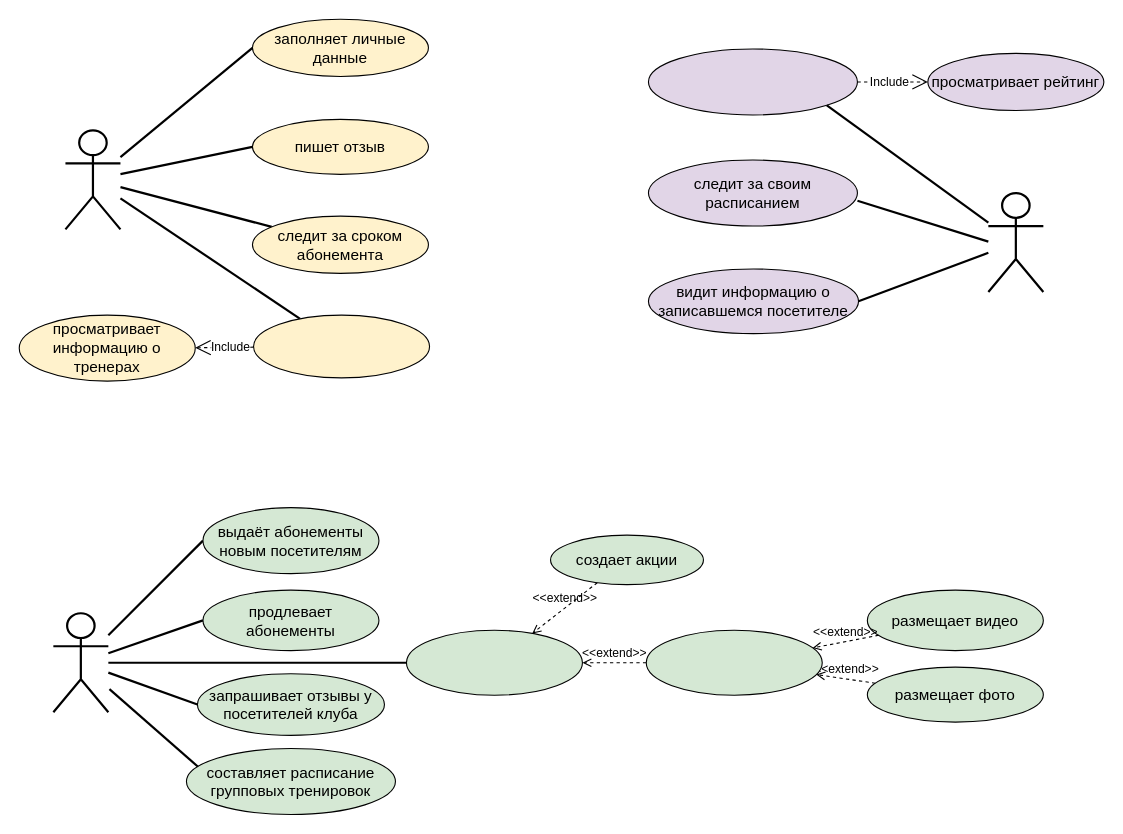
Some shapes in this 1123 by 834 pixel diagram are drawn without their labels. Each missing label, with the centre of its shape:
"Администратор" goes at [80,662].
"ведёт ленту новостей" goes at [493,662].
"записывается на тренировки" goes at [341,346].
"Посетитель" goes at [92,179].
"просматривает личную информацию" goes at [752,81].
"размещение медиа-контента" goes at [733,662].
"Тренер" goes at [1015,242].
